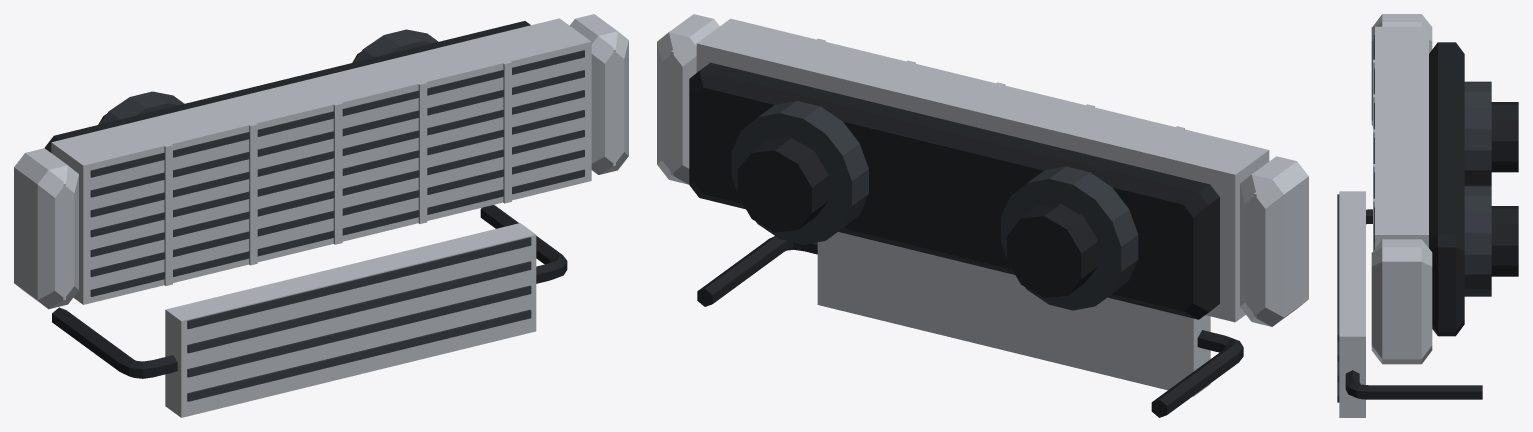
File: hana_roadster.glb
3 views of the same model, side by side, from view 1: azimuth 30°, elevation 25°; view 2: azimuth 150°, elevation 25°; view 3: azimuth 270°, elevation 25° (orthographic). The views are drawn at different scales.
Visible parts, largest first — view 1: model; view 2: model; view 3: model.
Part boxes in pixels (x1=…): model: x1=14, y1=14, x2=628, y2=417; model: x1=657, y1=14, x2=1308, y2=417; model: x1=1337, y1=14, x2=1518, y2=417.
Size of the model in its own units: 0.64 by 0.264 by 0.202.
Materials: 1 (1 with a texture image).
